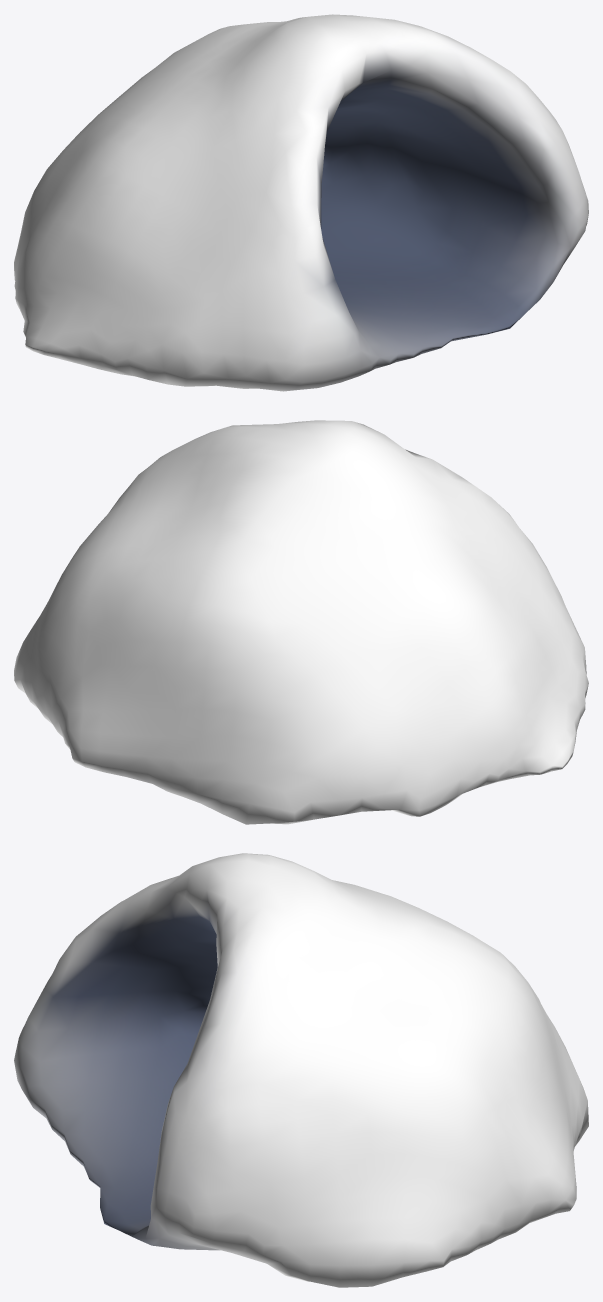
The model's file is rabbit hole.obj.
3 views of the same model, one above another, from view 1: azimuth 30°, elevation 25°; view 2: azimuth 150°, elevation 25°; view 3: azimuth 270°, elevation 25° (orthographic). The views are drawn at different scales.
Visible parts, largest first — view 1: UV_Sphere; view 2: UV_Sphere; view 3: UV_Sphere.
Boxes of the visible parts, bbox=[...] form: UV_Sphere: bbox=[14, 14, 588, 391]; UV_Sphere: bbox=[14, 420, 588, 824]; UV_Sphere: bbox=[14, 853, 588, 1287].
Bounding box in the file's own units: 1.86 × 0.9677 × 1.62.
1 material, 1 textured.
